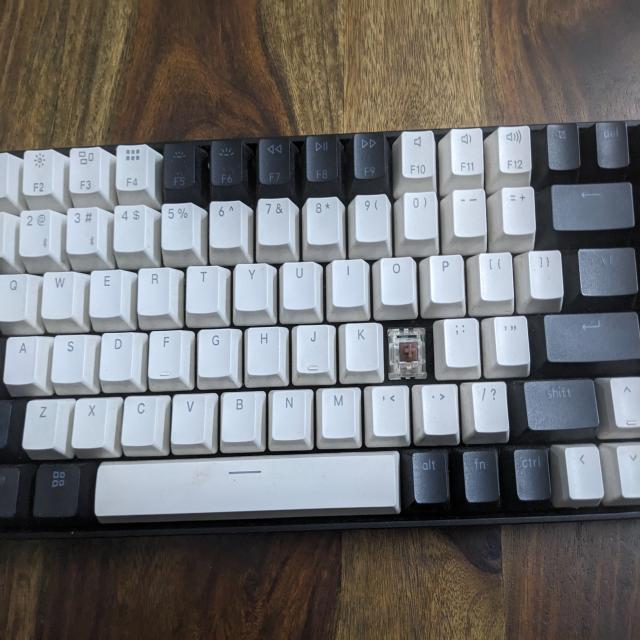C: (388, 327, 426, 374)
